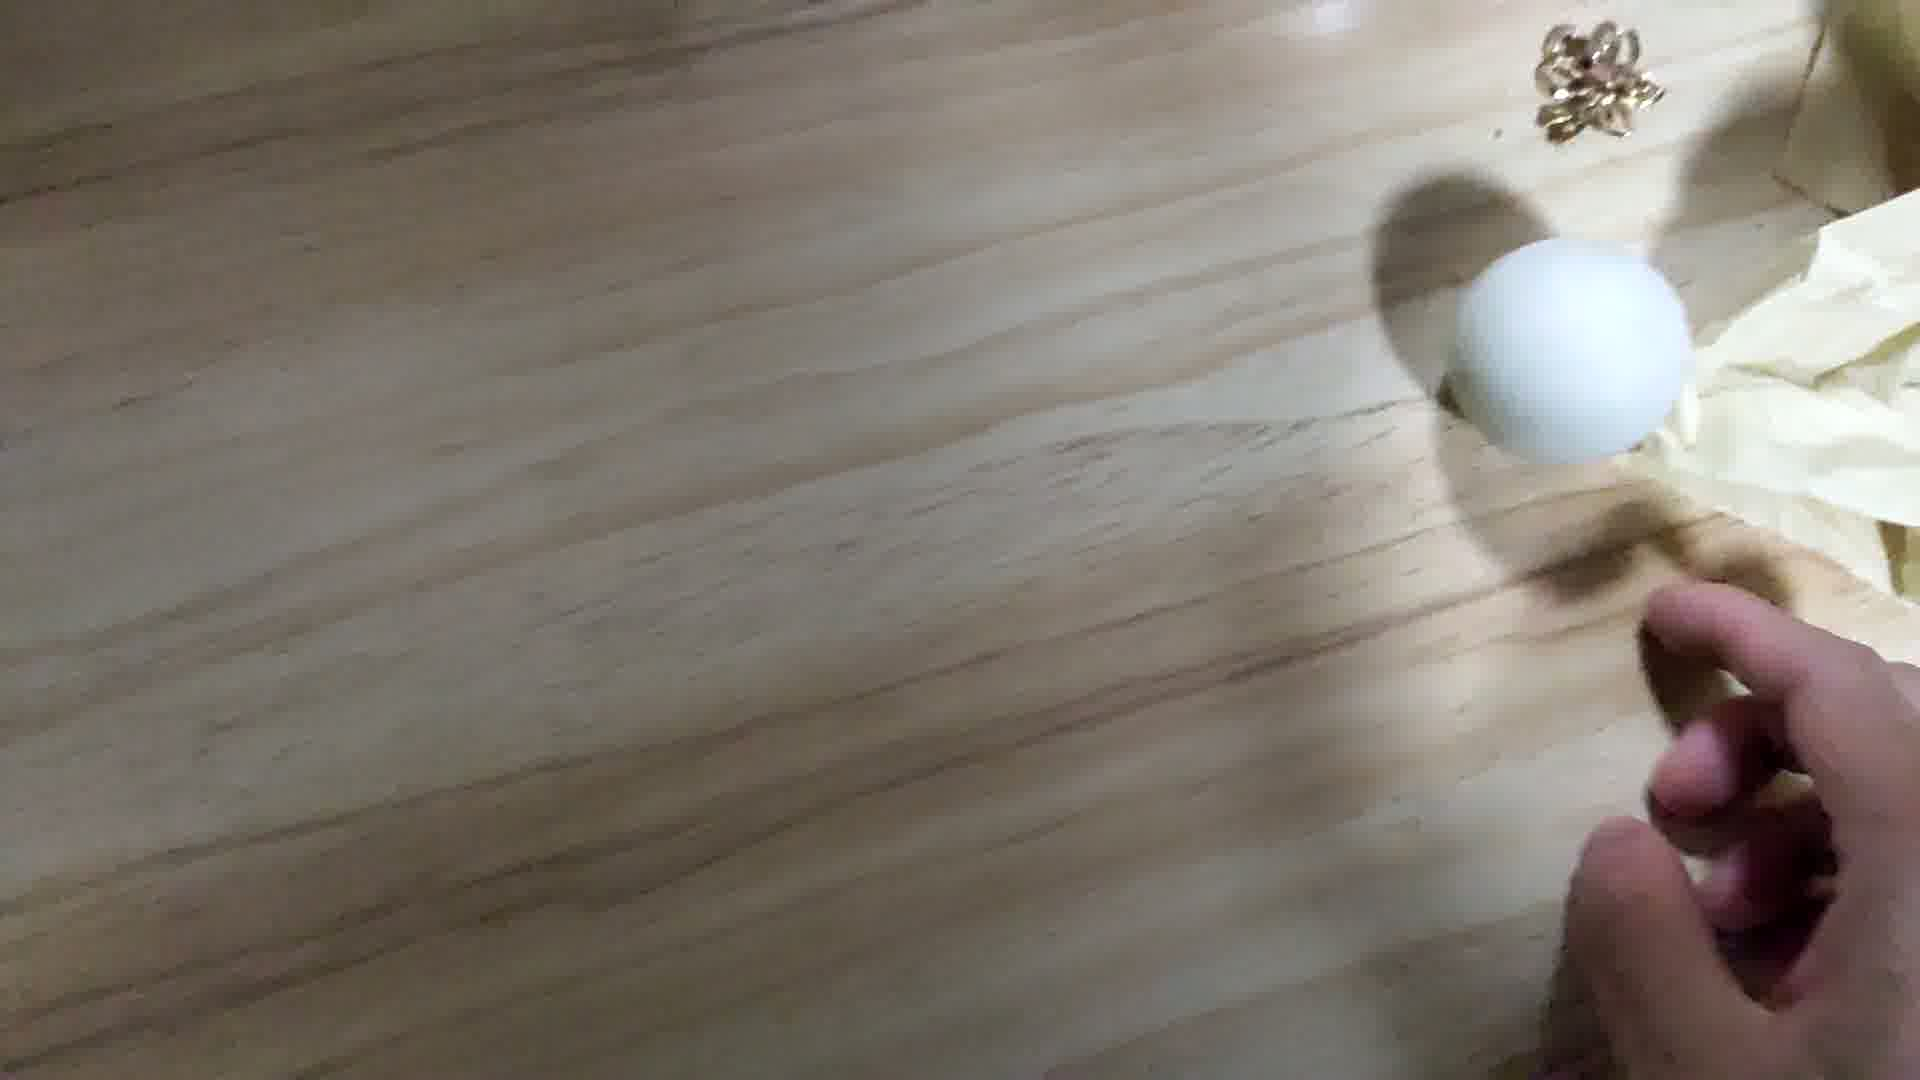Ball: (1455, 235, 1688, 465)
